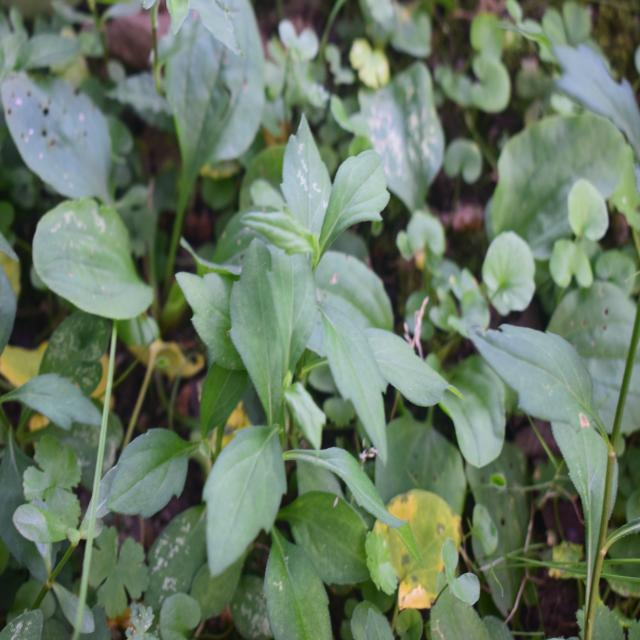Indian aster: (206, 145, 402, 524)
